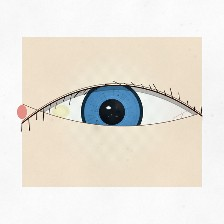pinguecula_lesion: (43, 97, 79, 126)
